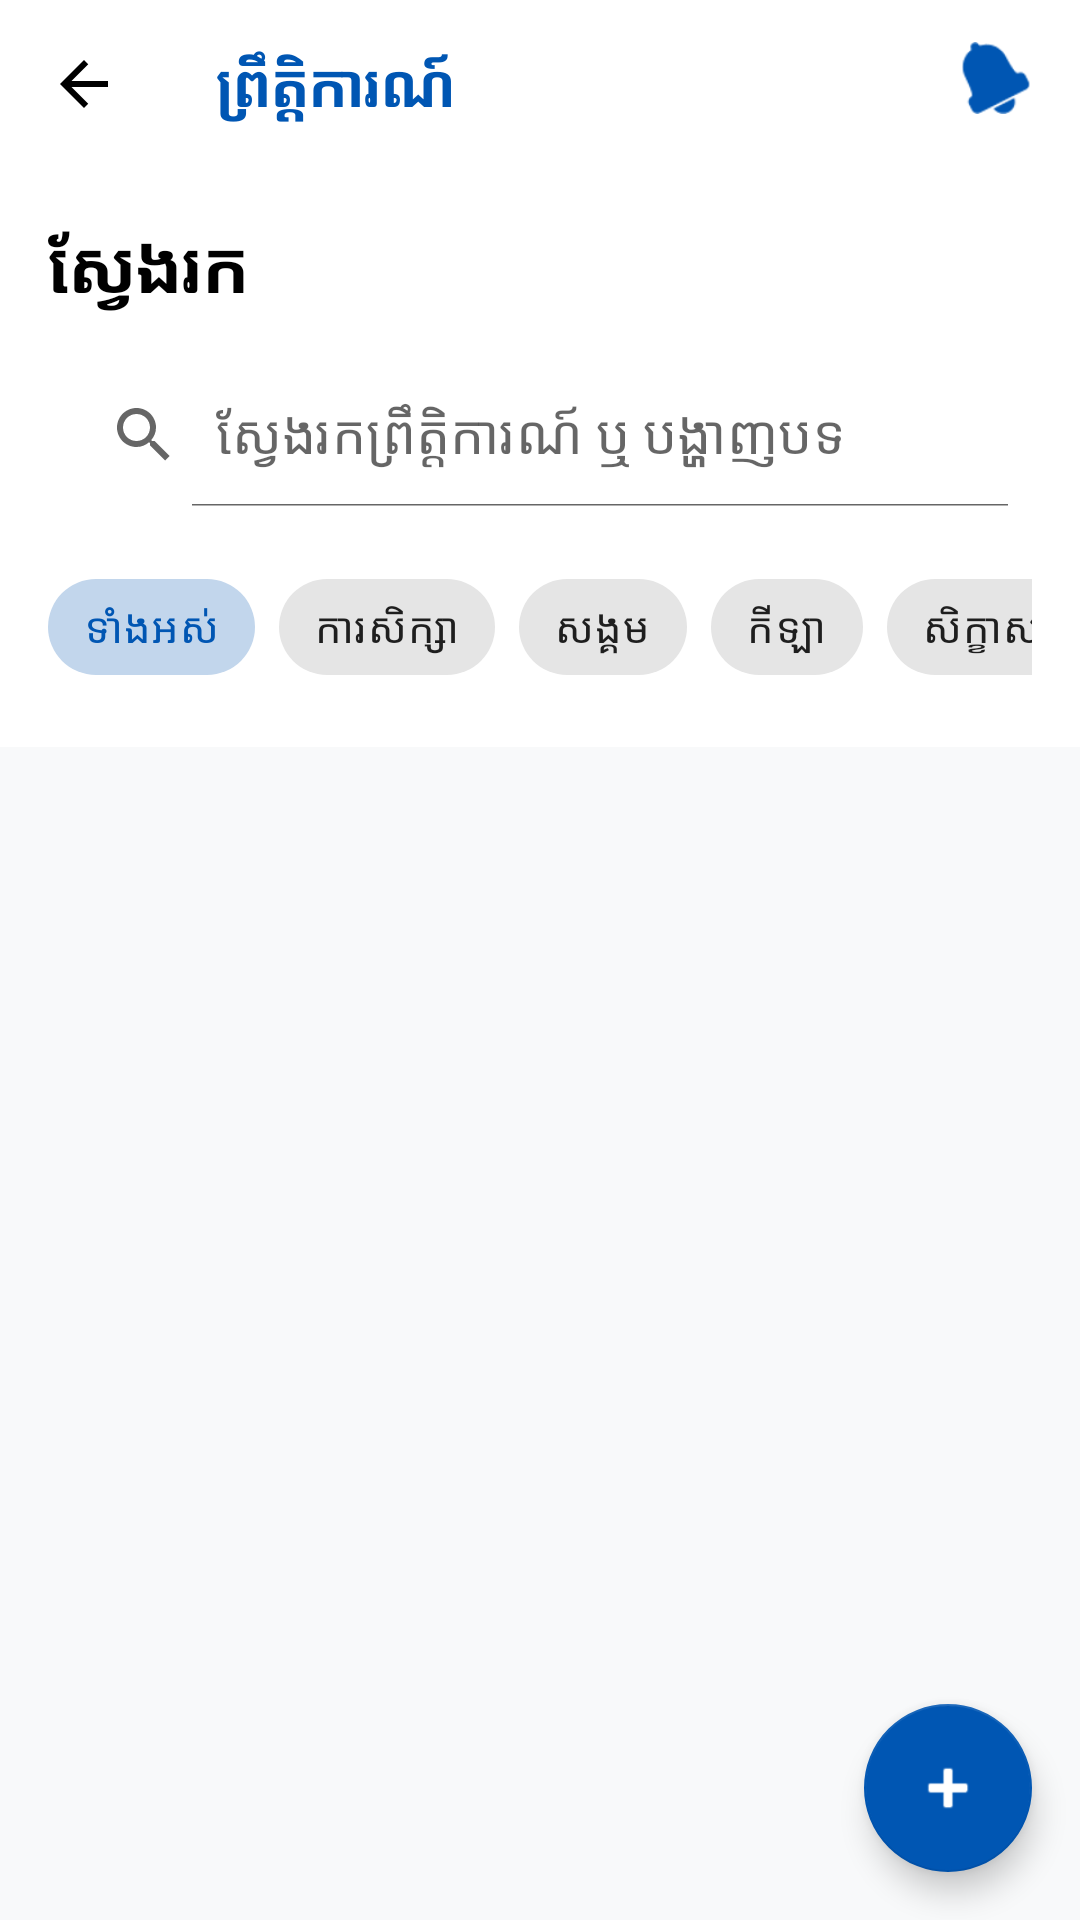

Screen size 1080w x 1920h. Icon name, then its box in pixels as (x1, y1, x2, y2):
ការជូនដំណឹង: (962, 42, 1030, 114)
បង្កើតព្រឹត្តិការណ៍: (864, 1704, 1032, 1872)
